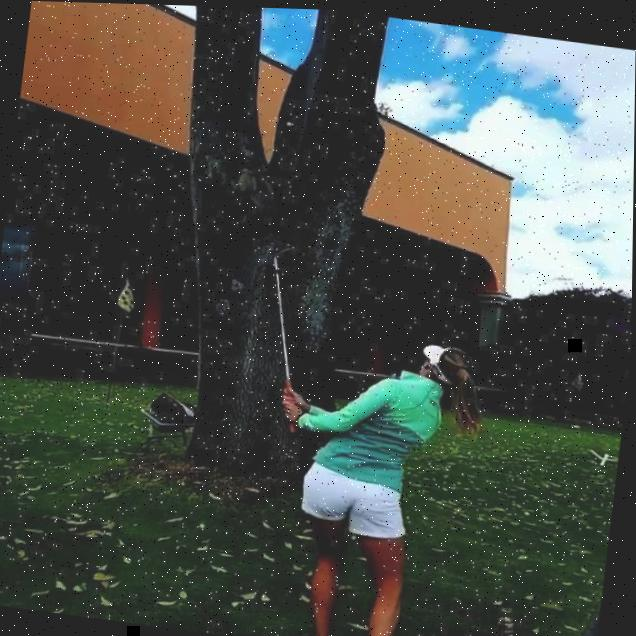ClubHead: (274, 243, 296, 261)
